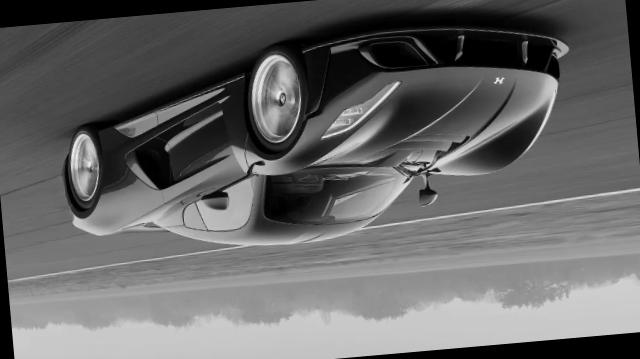sport: (42, 0, 595, 278)
